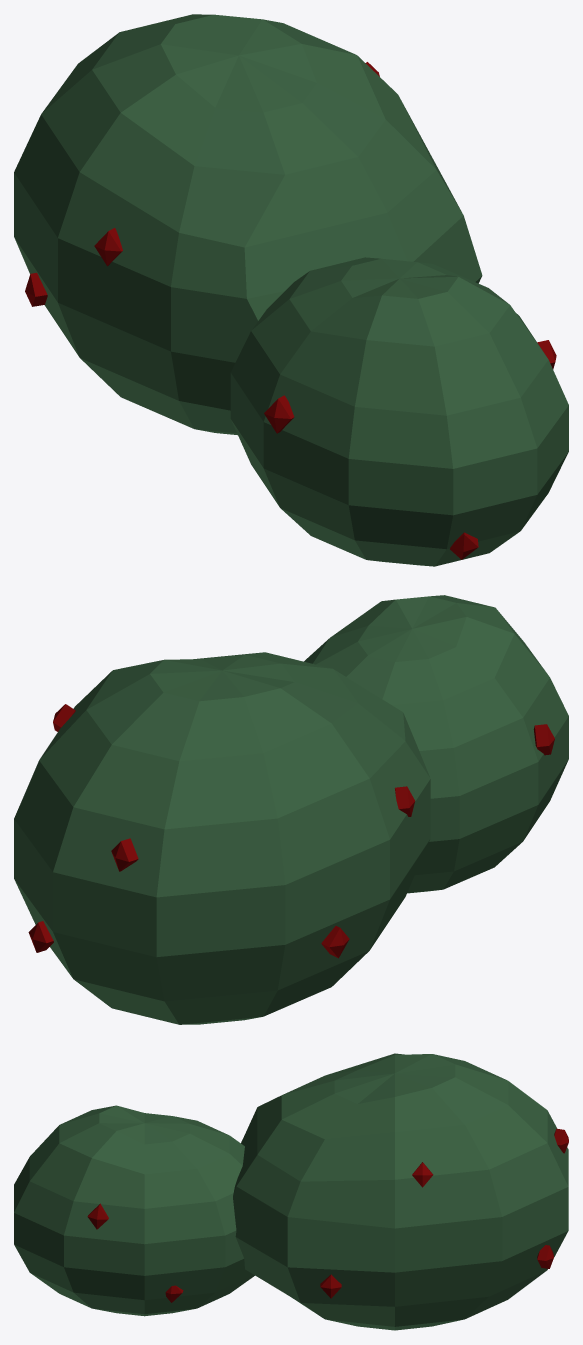
File: ExportedFBXFile.fbx
The picture shows the model from 3 angles, top to bottom: view 1: azimuth 30°, elevation 25°; view 2: azimuth 150°, elevation 25°; view 3: azimuth 270°, elevation 25°; orthographic projection. The views are drawn at different scales.
Parts seen in each view (by area): view 1: pSphere7, pSphere6, pSphere15; view 2: pSphere7, pSphere6, pSphere11, pSphere13; view 3: pSphere7, pSphere6.
Boxes of the visible parts, left/top/right/bottom form: pSphere7: left=14, top=14, right=482, bottom=435; pSphere6: left=230, top=257, right=568, bottom=566; pSphere15: left=264, top=395, right=294, bottom=433; pSphere7: left=14, top=652, right=430, bottom=1024; pSphere6: left=304, top=595, right=568, bottom=893; pSphere11: left=111, top=838, right=138, bottom=871; pSphere13: left=321, top=926, right=349, bottom=958; pSphere7: left=233, top=1053, right=568, bottom=1330; pSphere6: left=14, top=1105, right=254, bottom=1316.
Size of the model in its own units: 0.8592 by 0.8168 by 1.67.
